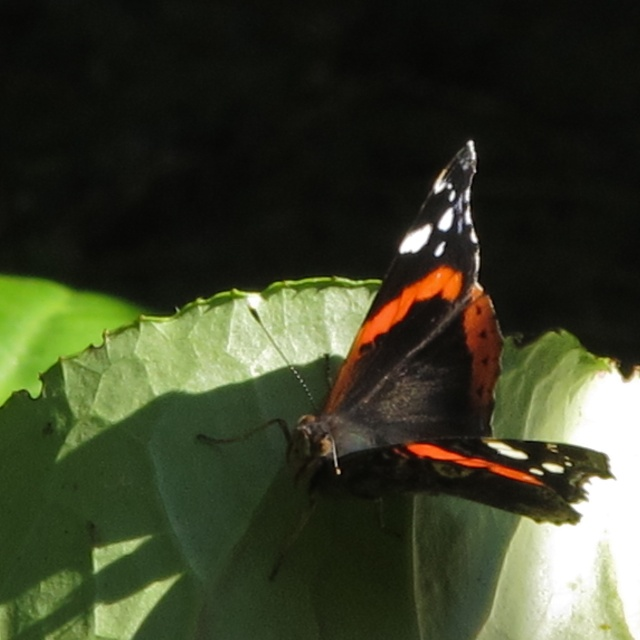Butterfly: (198, 138, 612, 578)
